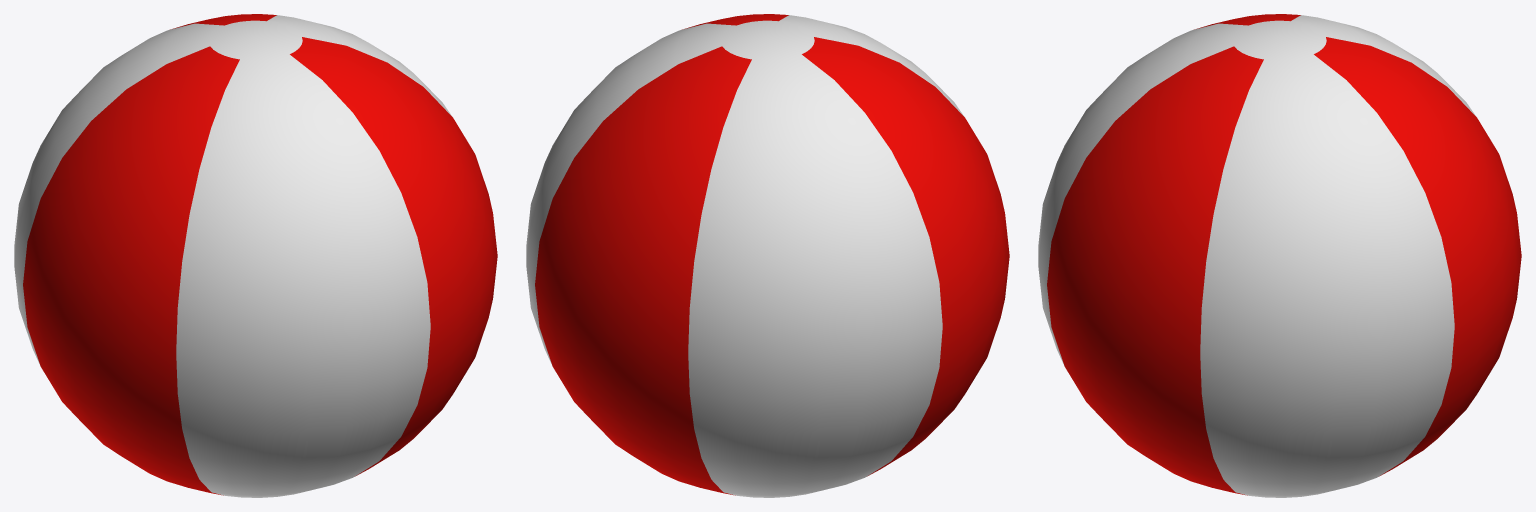
Rendered from Balon.fbx.
3 renders of one model, left to right at view 1: azimuth 30°, elevation 25°; view 2: azimuth 150°, elevation 25°; view 3: azimuth 270°, elevation 25°, orthographic.
Visible parts, largest first — view 1: Sphere.005; view 2: Sphere.005; view 3: Sphere.005.
Part boxes in pixels (left/top/right/bottom): Sphere.005: left=14, top=14, right=497, bottom=497; Sphere.005: left=526, top=14, right=1009, bottom=497; Sphere.005: left=1038, top=14, right=1521, bottom=497.
Size of the model in its own units: 200 by 200 by 200.
